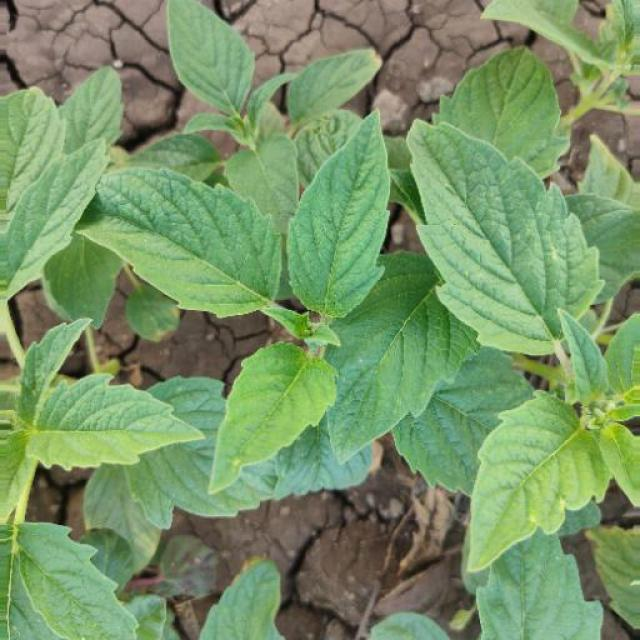crop: (5, 38, 640, 638)
